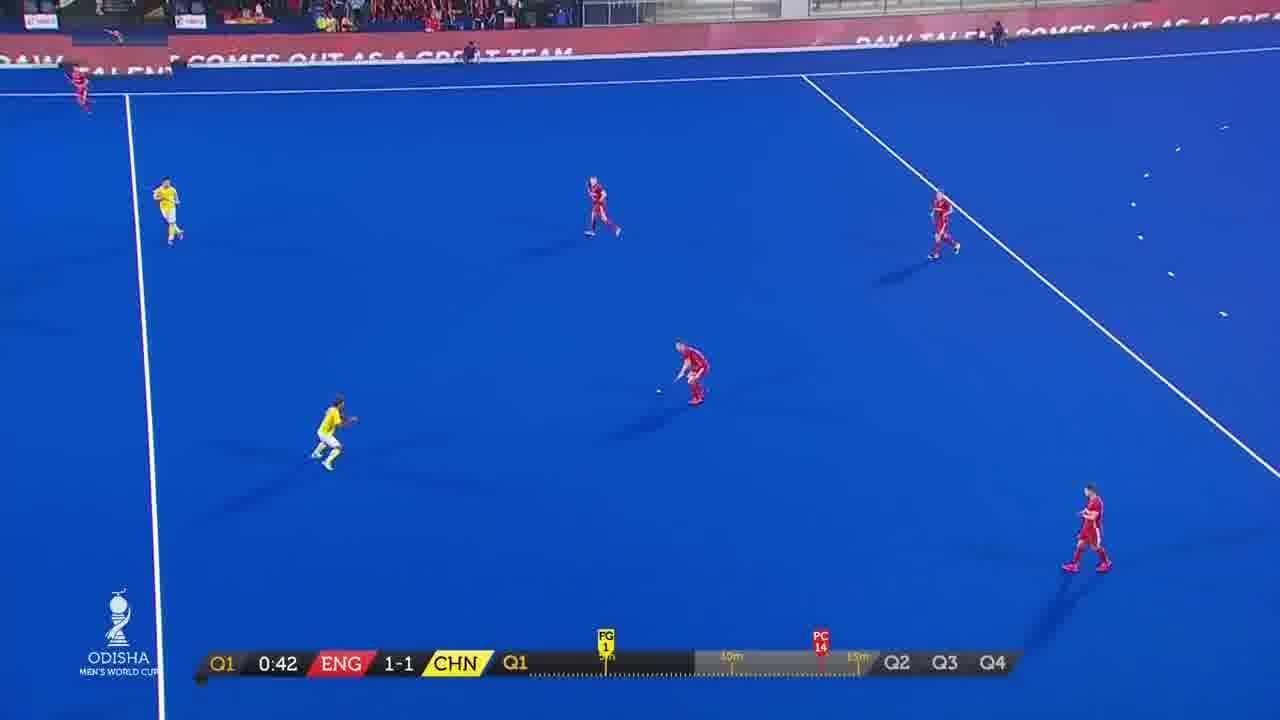ball: (651, 384, 670, 398)
